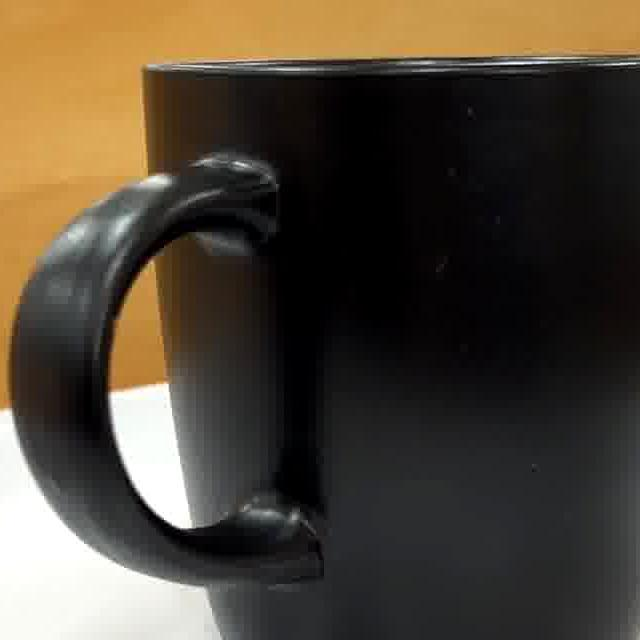cup: (11, 59, 640, 640)
